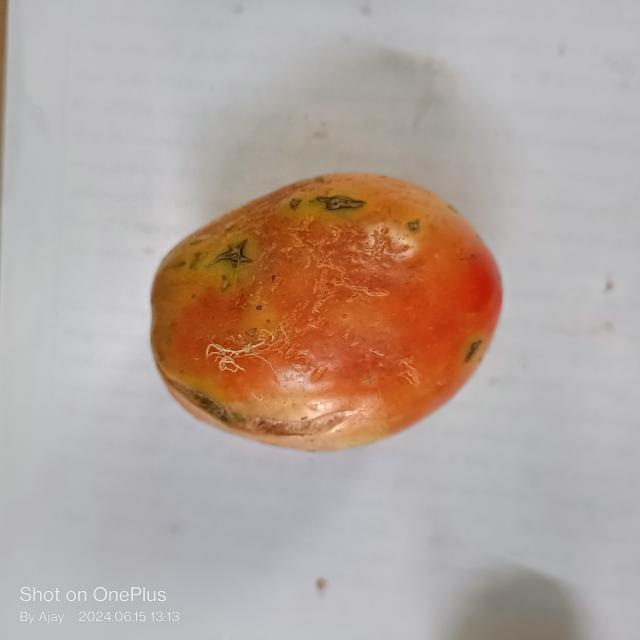Bacterial_Spot: (282, 185, 367, 215), (214, 234, 258, 265), (458, 331, 486, 367)
